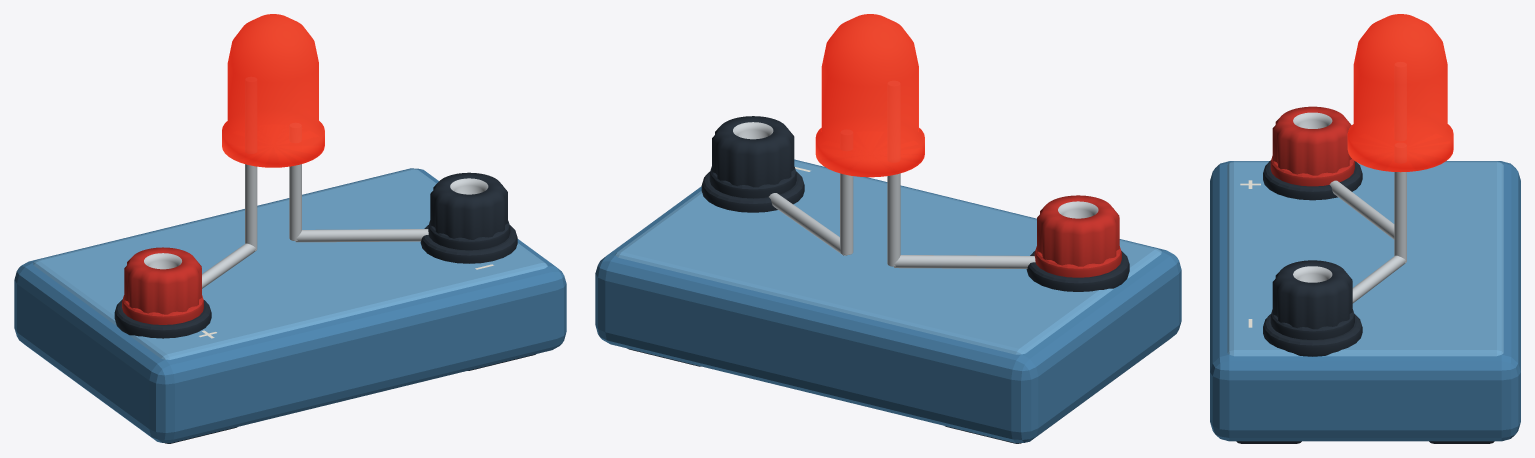
The model's file is led.glb.
3 views of the same model, side by side, from view 1: azimuth 30°, elevation 25°; view 2: azimuth 150°, elevation 25°; view 3: azimuth 270°, elevation 25° (orthographic). The views are drawn at different scales.
Parts seen in each view (by area): view 1: LED terminal carrier, Top shoulder, Powered diode cap, Red 5 mm style LED package, p binding socket, n binding socket, Terminal to diode lead.001, p socket washer, n socket washer, n socket foot, LED pin, p socket foot (+2 smaller); view 2: LED terminal carrier, Top shoulder, Powered diode cap, Red 5 mm style LED package, n binding socket, p binding socket, Terminal to diode lead, p socket washer, n socket washer, LED pin, p socket foot, n socket foot (+2 smaller); view 3: Top shoulder, LED terminal carrier, Powered diode cap, Red 5 mm style LED package, n binding socket, p binding socket, n socket washer, p socket washer, LED pin.001, n socket foot, p socket foot, Terminal to diode lead (+1 smaller).
Part boxes in pixels (bbox=[...]): LED terminal carrier: bbox=[14, 168, 566, 443]; Top shoulder: bbox=[33, 169, 547, 359]; Powered diode cap: bbox=[222, 14, 324, 167]; Red 5 mm style LED package: bbox=[222, 14, 324, 167]; p binding socket: bbox=[124, 247, 201, 314]; n binding socket: bbox=[430, 172, 507, 239]; Terminal to diode lead.001: bbox=[295, 229, 428, 242]; p socket washer: bbox=[114, 299, 211, 338]; n socket washer: bbox=[420, 225, 517, 263]; n socket foot: bbox=[428, 220, 510, 250]; LED pin: bbox=[245, 164, 257, 250]; p socket foot: bbox=[122, 295, 203, 324]; LED terminal carrier: bbox=[595, 159, 1181, 443]; Top shoulder: bbox=[615, 160, 1161, 354]; Powered diode cap: bbox=[815, 14, 924, 177]; Red 5 mm style LED package: bbox=[816, 14, 924, 176]; n binding socket: bbox=[712, 116, 794, 187]; p binding socket: bbox=[1037, 195, 1119, 266]; Terminal to diode lead: bbox=[894, 255, 1035, 268]; p socket washer: bbox=[1026, 251, 1129, 291]; n socket washer: bbox=[701, 171, 804, 212]; LED pin: bbox=[887, 173, 900, 266]; p socket foot: bbox=[1034, 246, 1121, 277]; n socket foot: bbox=[709, 166, 796, 198]; Top shoulder: bbox=[1227, 161, 1503, 356]; LED terminal carrier: bbox=[1210, 161, 1520, 441]; Powered diode cap: bbox=[1347, 14, 1453, 172]; Red 5 mm style LED package: bbox=[1348, 14, 1452, 171]; n binding socket: bbox=[1272, 260, 1352, 329]; p binding socket: bbox=[1272, 106, 1351, 175]; n socket washer: bbox=[1263, 314, 1362, 356]; p socket washer: bbox=[1263, 160, 1362, 200]; LED pin.001: bbox=[1394, 172, 1406, 263]; n socket foot: bbox=[1270, 309, 1354, 339]; p socket foot: bbox=[1270, 156, 1354, 186]; Terminal to diode lead: bbox=[1329, 180, 1394, 239].
Bounding box in the file's own units: 0.084 × 0.0628 × 0.053.
